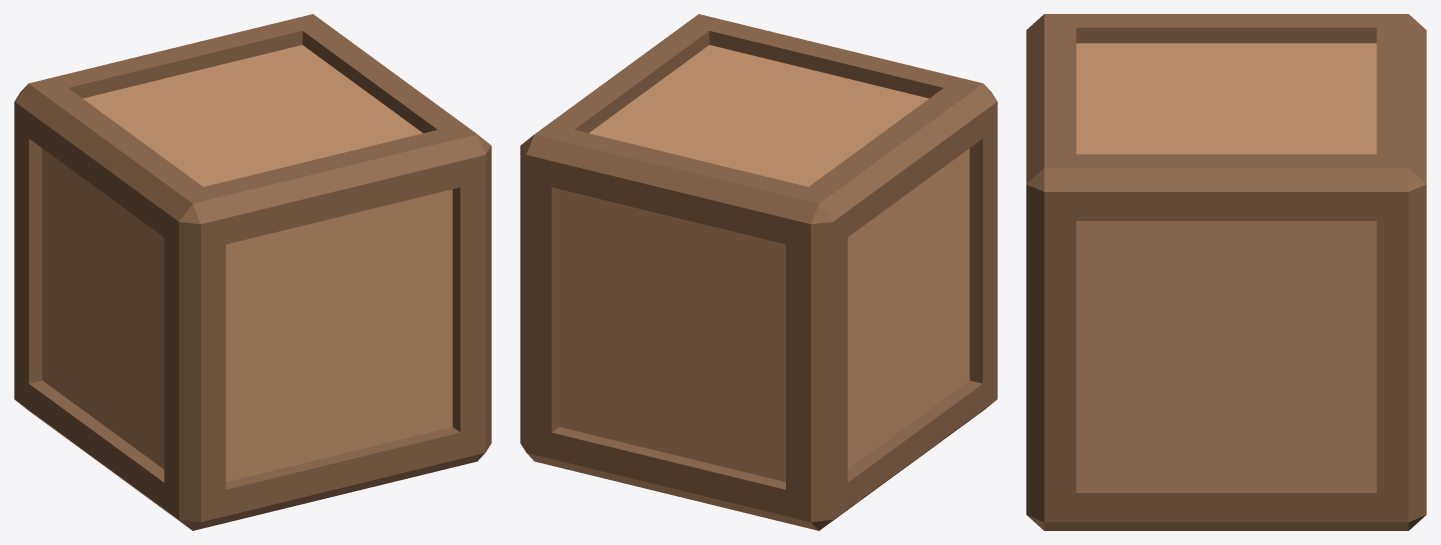
3 renders of one model, left to right at view 1: azimuth 30°, elevation 25°; view 2: azimuth 150°, elevation 25°; view 3: azimuth 270°, elevation 25°, orthographic. The views are drawn at different scales.
Parts seen in each view (by area): view 1: box; view 2: box; view 3: box.
Boxes of the visible parts, <box> form: box: <box>14,14,491,530</box>; box: <box>520,14,997,530</box>; box: <box>1026,14,1426,530</box>.
Bounding box in the file's own units: 133 × 133 × 133.
1 material, 1 textured.
